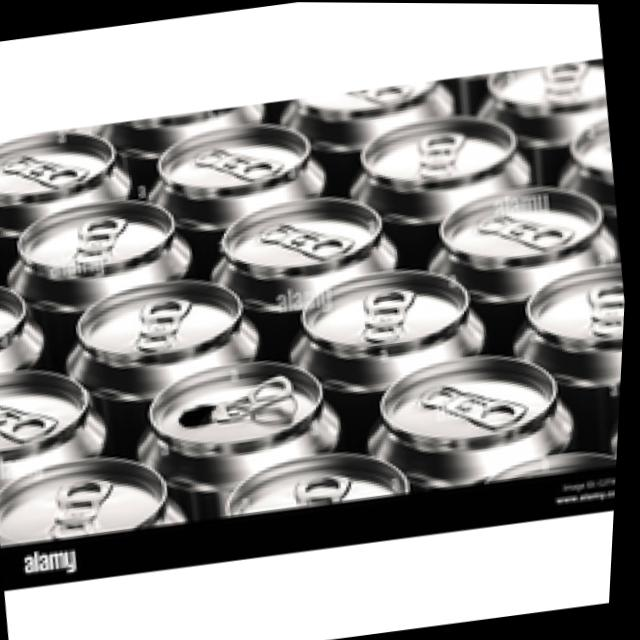aluminum_soda_cans: (373, 349, 578, 468), (144, 352, 346, 470), (68, 273, 260, 382), (305, 257, 474, 360), (1, 446, 176, 542), (366, 107, 533, 202), (213, 197, 387, 274)
